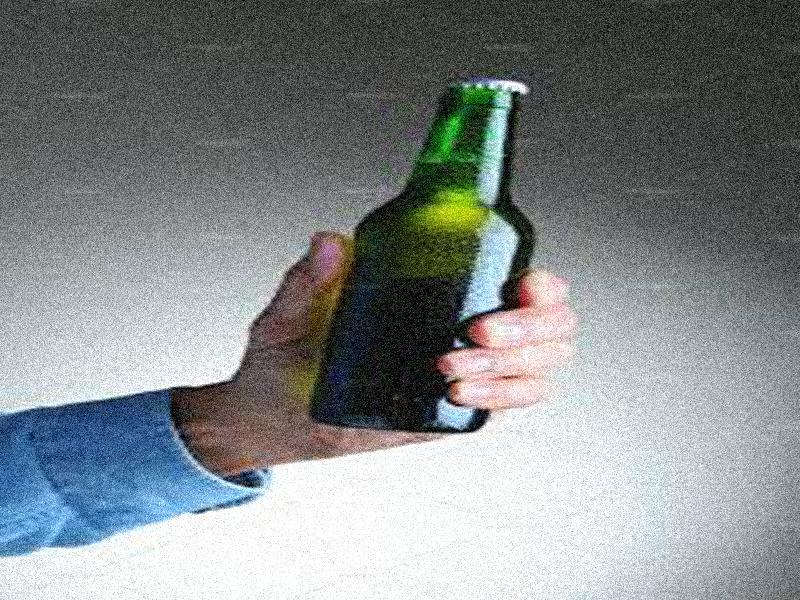Beer: (305, 83, 545, 430)
